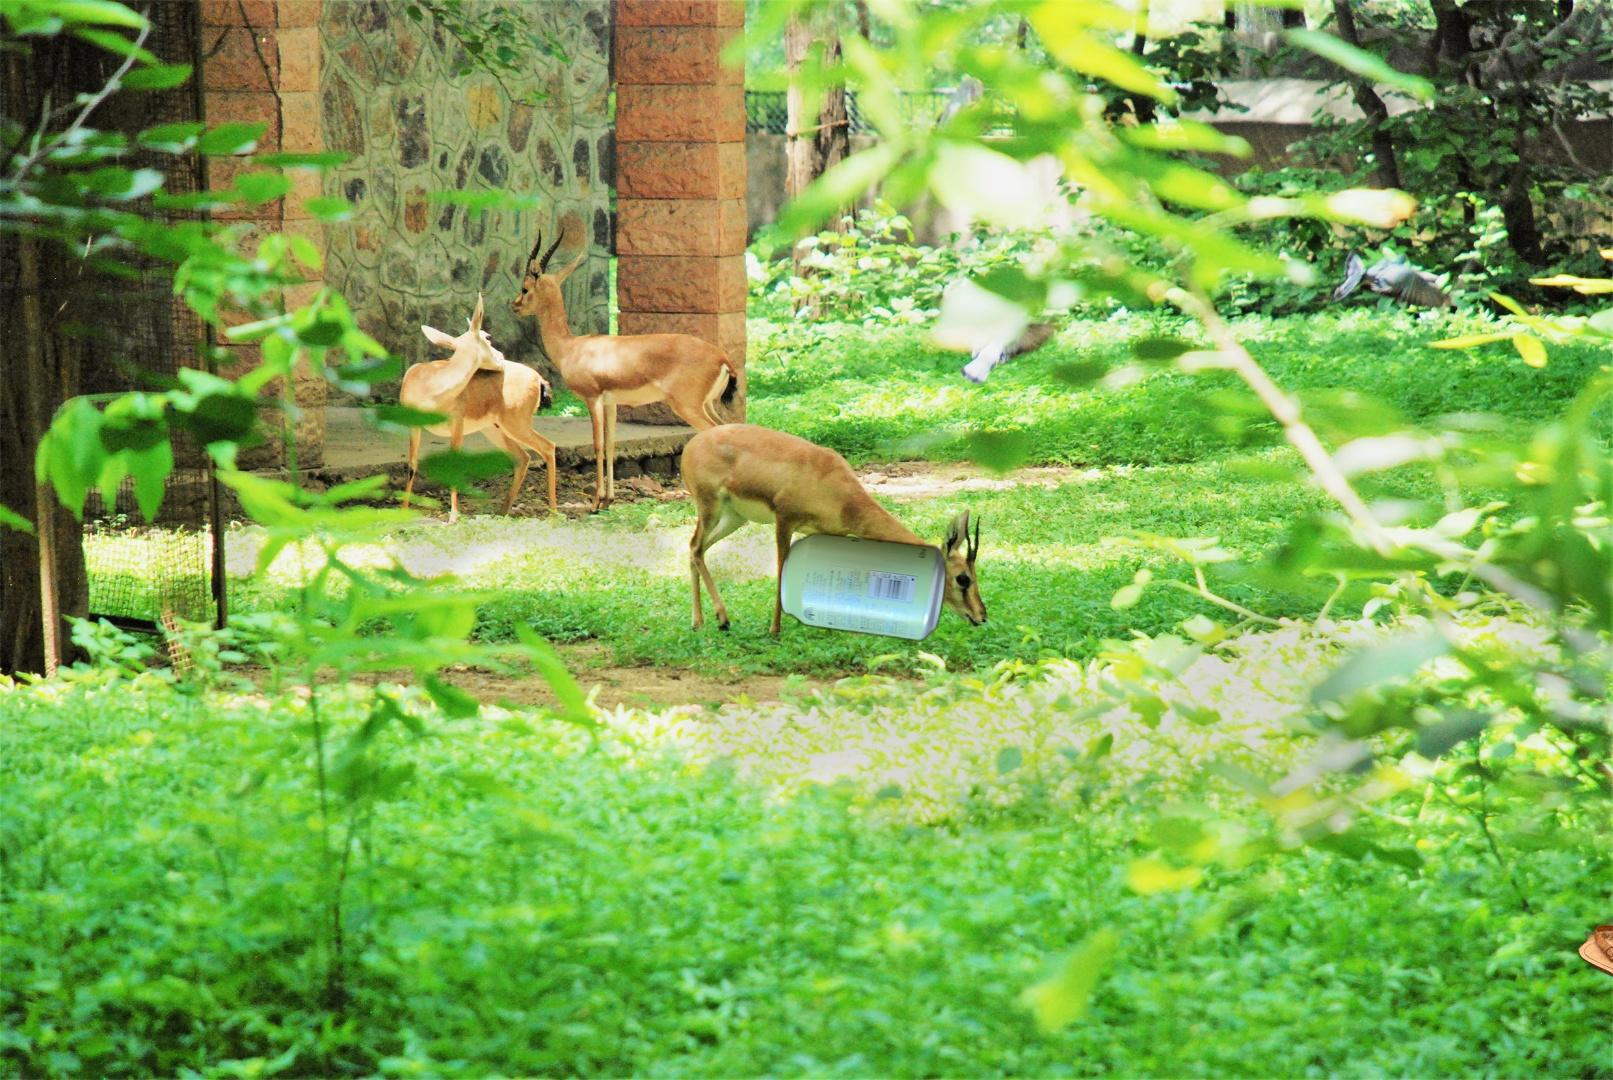metal-cans: (776, 528, 951, 648)
shoes: (1574, 906, 1613, 1019)
